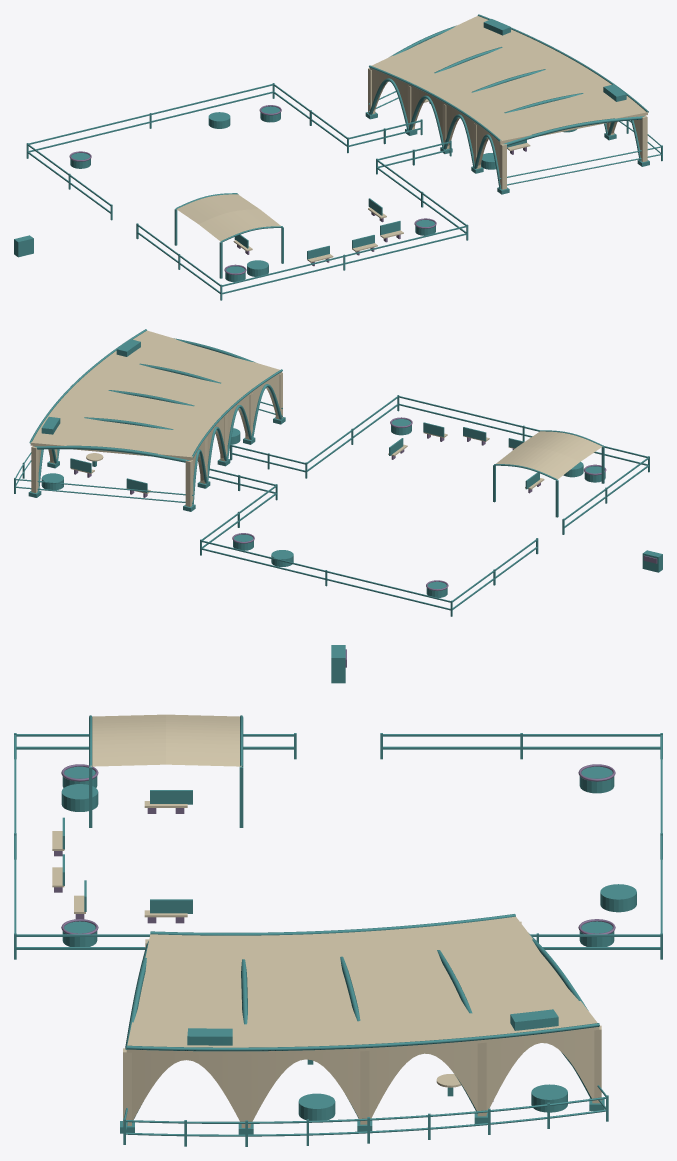
3 renders of one model, top to bottom at view 1: azimuth 30°, elevation 25°; view 2: azimuth 150°, elevation 25°; view 3: azimuth 270°, elevation 25°, orthographic. The views are drawn at different scales.
Parts seen in each view (by area): view 1: COMMONS_batch_Commons limestone, COMMONS_batch_Commons teal, COMMONS_batch_Commons violet; view 2: COMMONS_batch_Commons limestone, COMMONS_batch_Commons teal, COMMONS_batch_Commons violet; view 3: COMMONS_batch_Commons limestone, COMMONS_batch_Commons teal, COMMONS_batch_Commons violet.
Part boxes in pixels (left/top/right/bottom): COMMONS_batch_Commons limestone: left=176, top=16, right=647, bottom=262; COMMONS_batch_Commons teal: left=14, top=14, right=662, bottom=300; COMMONS_batch_Commons violet: left=69, top=102, right=526, bottom=275; COMMONS_batch_Commons limestone: left=30, top=330, right=602, bottom=506; COMMONS_batch_Commons teal: left=14, top=329, right=662, bottom=616; COMMONS_batch_Commons violet: left=74, top=417, right=657, bottom=590; COMMONS_batch_Commons limestone: left=52, top=714, right=601, bottom=1127; COMMONS_batch_Commons teal: left=14, top=645, right=662, bottom=1146; COMMONS_batch_Commons violet: left=54, top=649, right=615, bottom=1101.
Bounding box in the file's own units: 52.31 × 4.84 × 30.12.
